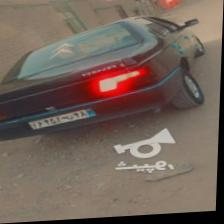plate: (31, 108, 99, 131)
